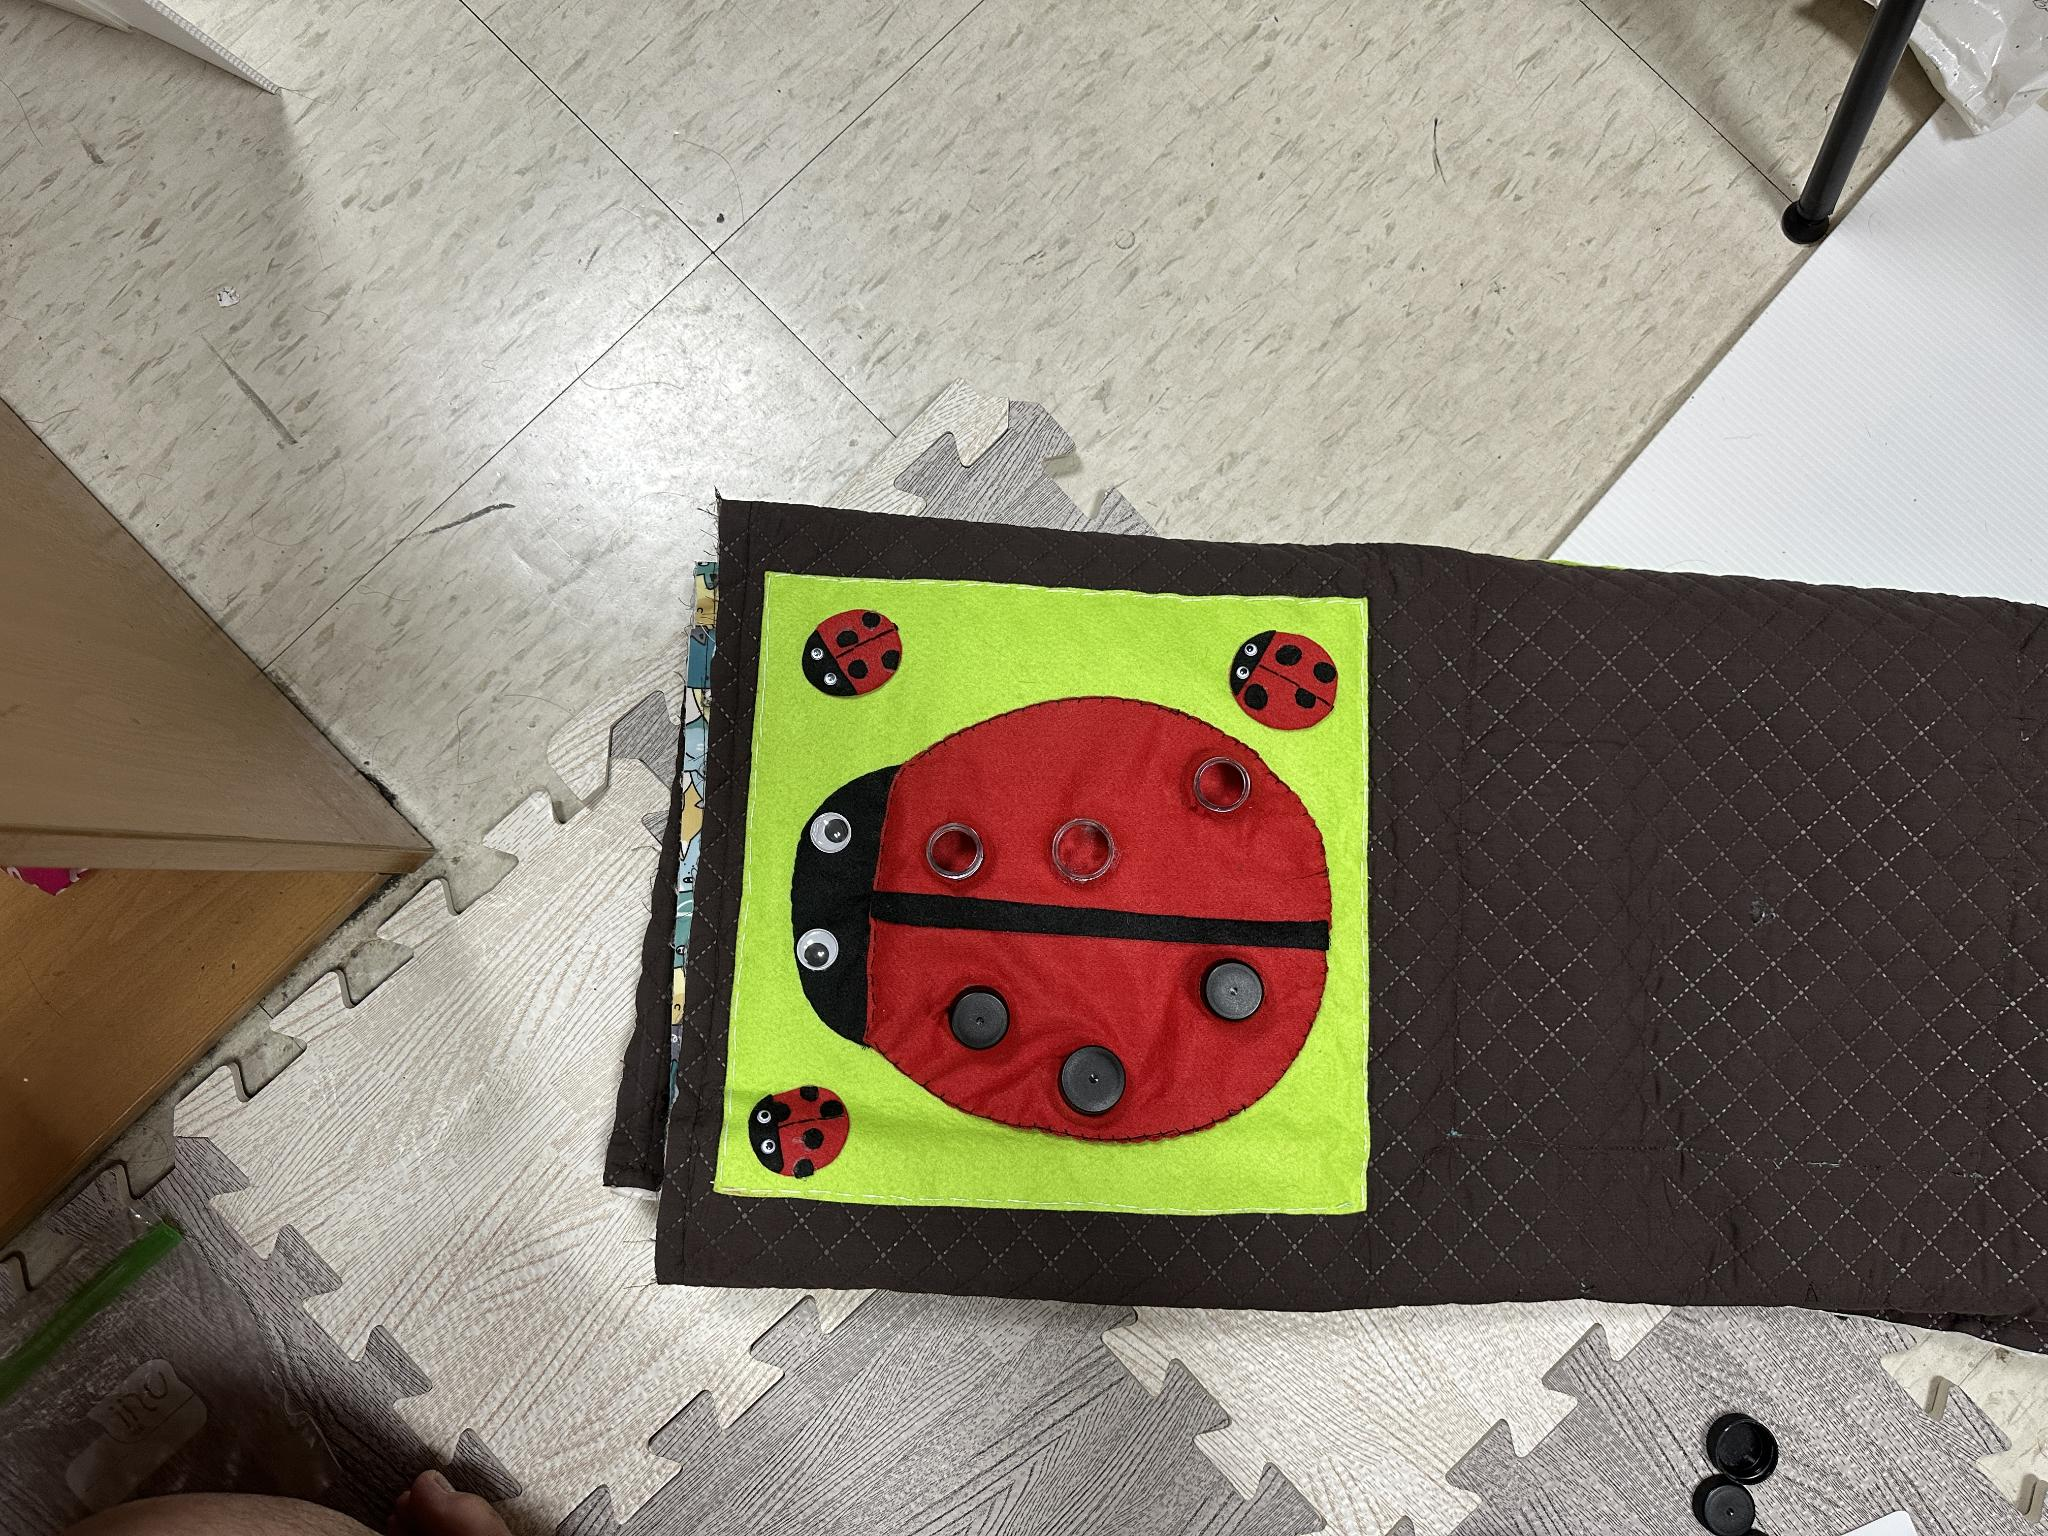cap_ok: (1045, 1025, 1140, 1128), (935, 965, 1027, 1068), (1200, 954, 1271, 1031)
